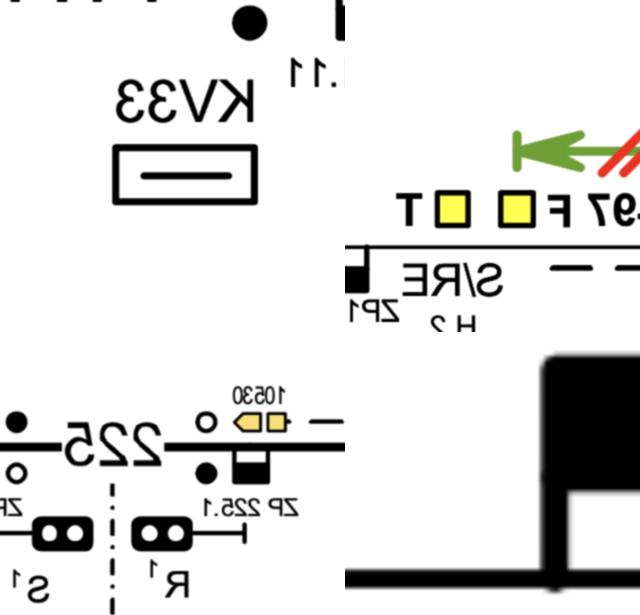radzaehler: (529, 344, 640, 611), (228, 444, 274, 487), (345, 239, 374, 298)
tracknumber: (54, 410, 170, 477)
